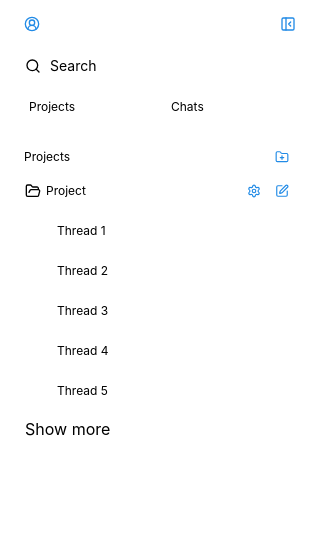
Test: WorkspaceSidebar project reorder › collapses older project threads behind a subdued show more toggle
Check: the button "Thread 1" is shown, box [56, 222, 264, 240]
Check: the button "Thread 5" is shown, box [56, 382, 264, 400]
Click the button "Show more".
click(68, 429)  # box [16, 414, 119, 445]
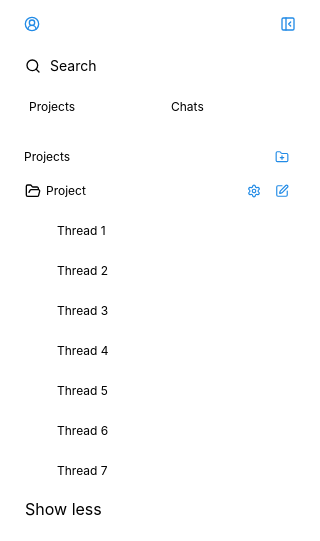
Check: the button "Thread 6" is shown, box [56, 422, 264, 440]
Check: the button "Thread 7" is shown, box [56, 462, 264, 480]
Click the button "Show less".
click(63, 509)  # box [16, 494, 111, 525]
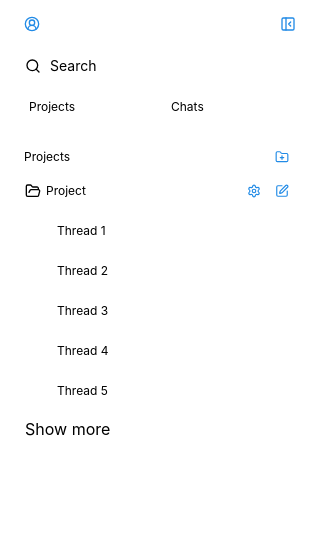
Check: the button "Thread 6" is gone
